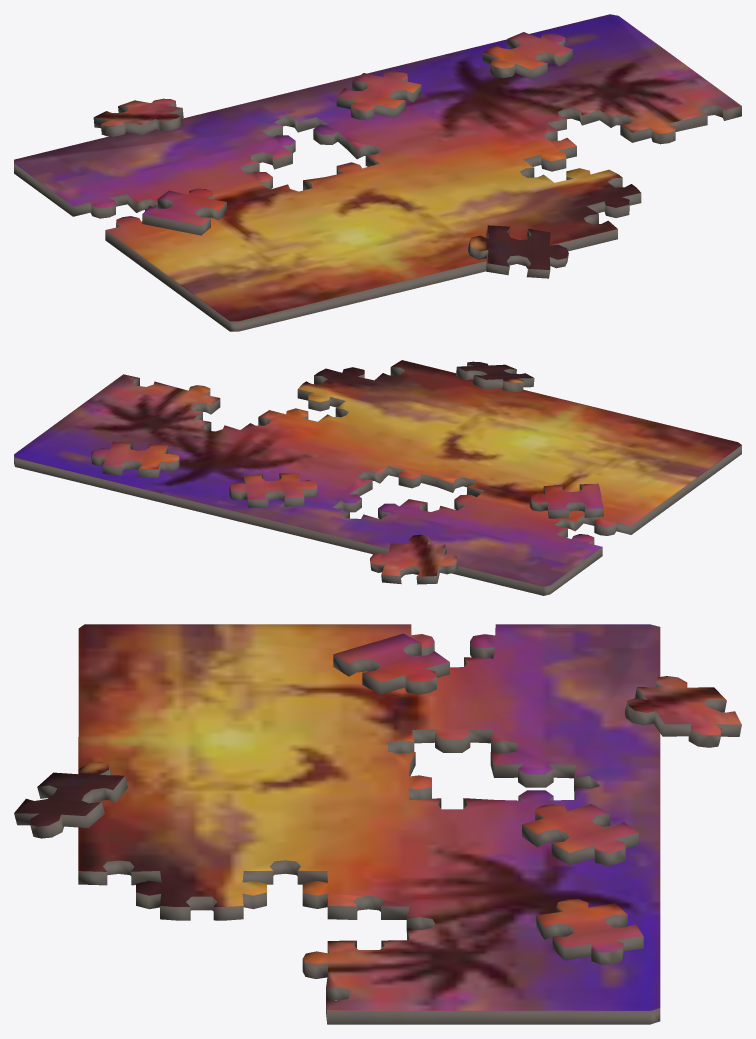
3 renders of one model, top to bottom at view 1: azimuth 30°, elevation 25°; view 2: azimuth 150°, elevation 25°; view 3: azimuth 270°, elevation 25°, orthographic. The views are drawn at different scales.
Bounding box in the file's own units: 8.34 × 0.3727 × 6.64.
2 materials, 2 textured.
